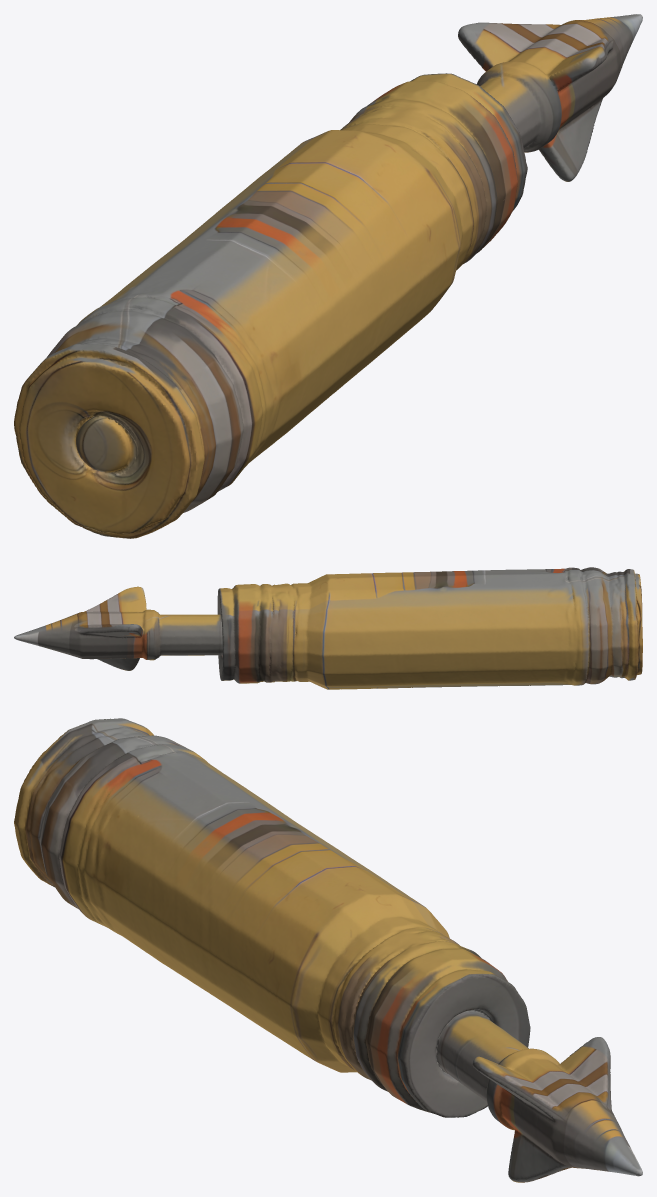
File: tripo_convert_77524255-1444-4209-849a-e08bb3cd6866.fbx
3 views of the same model, one above another, from view 1: azimuth 30°, elevation 25°; view 2: azimuth 150°, elevation 25°; view 3: azimuth 270°, elevation 25° (orthographic). The views are drawn at different scales.
Parts seen in each view (by area): view 1: tripo_node_77524255; view 2: tripo_node_77524255; view 3: tripo_node_77524255.
Boxes of the visible parts, x1,y1,x2,y2 form: tripo_node_77524255: [14, 14, 642, 538]; tripo_node_77524255: [14, 567, 642, 689]; tripo_node_77524255: [14, 718, 642, 1182].
Size of the model in its own units: 1 by 0.2126 by 0.6819.
Materials: 1 (1 with a texture image).
